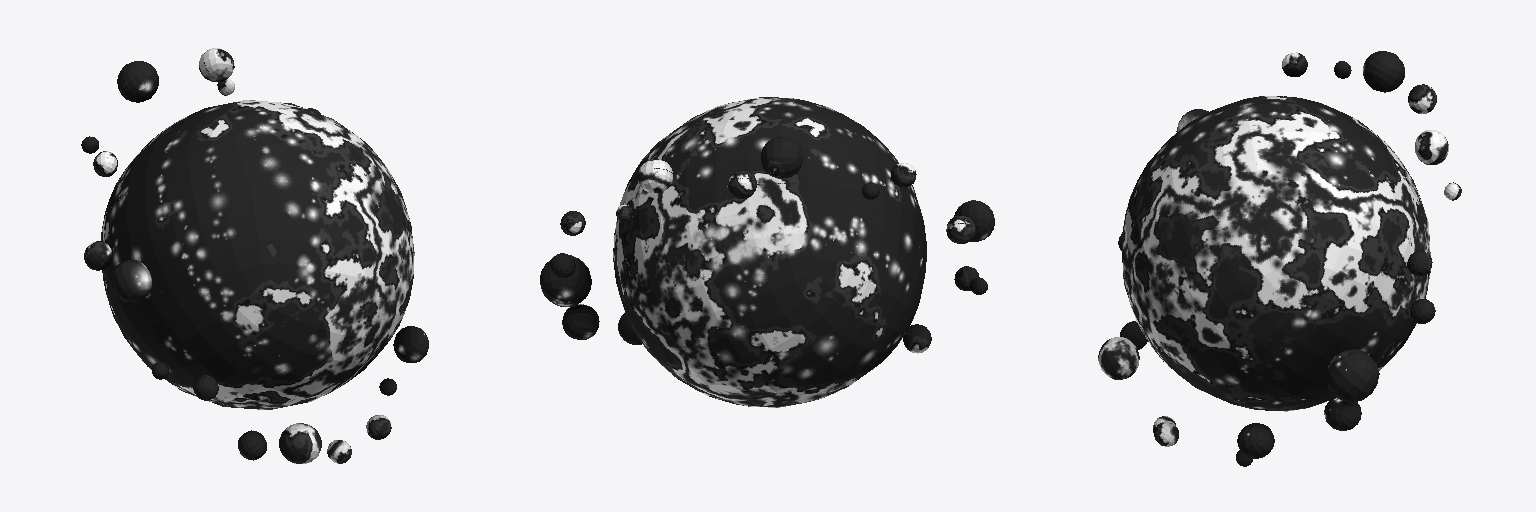
3 views of the same model, side by side, from view 1: azimuth 30°, elevation 25°; view 2: azimuth 150°, elevation 25°; view 3: azimuth 270°, elevation 25° (orthographic).
Parts seen in each view (by area): view 1: GreyPlanet; view 2: GreyPlanet; view 3: GreyPlanet.
Boxes of the visible parts, box(x1,y1,x2,y2) form: GreyPlanet: box(81, 48, 428, 463); GreyPlanet: box(540, 97, 994, 407); GreyPlanet: box(1098, 51, 1461, 466).
Bounding box in the file's own units: 185 × 161 × 155.
Materials: 1 (1 with a texture image).